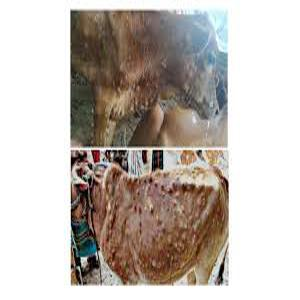lumpy skin diesease: (69, 9, 229, 285), (70, 149, 229, 286), (70, 9, 227, 146)
